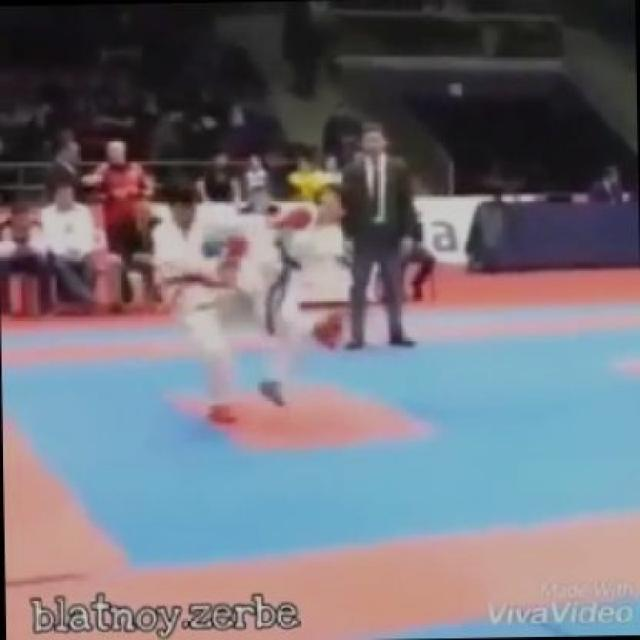fight: (144, 177, 358, 429)
non-fight: (340, 119, 420, 352), (78, 132, 166, 311), (36, 170, 106, 316)
